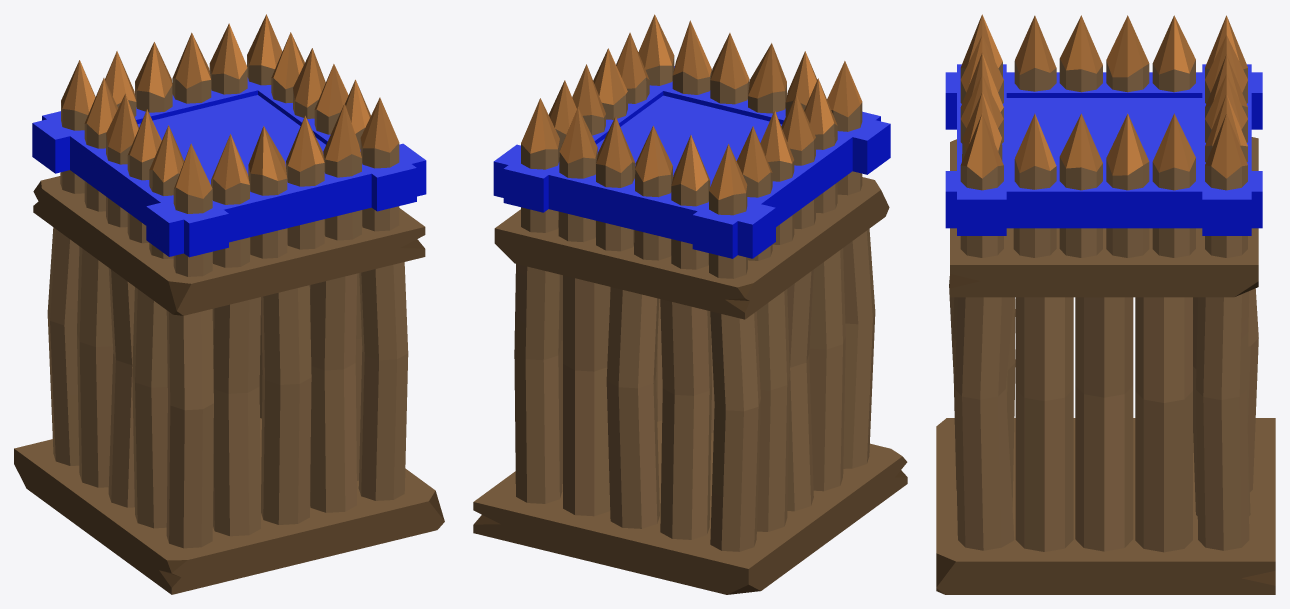
The model's file is Tower1.fbx.
The picture shows the model from 3 angles, left to right: view 1: azimuth 30°, elevation 25°; view 2: azimuth 150°, elevation 25°; view 3: azimuth 270°, elevation 25°; orthographic projection. The views are drawn at different scales.
Visible parts, largest first — view 1: Tower1; view 2: Tower1; view 3: Tower1.
Part boxes in pixels (box(x1,y1,x2,y2)): Tower1: box(14, 14, 444, 594); Tower1: box(473, 14, 907, 594); Tower1: box(936, 14, 1275, 594).
Bounding box in the file's own units: 400 × 600 × 400.
